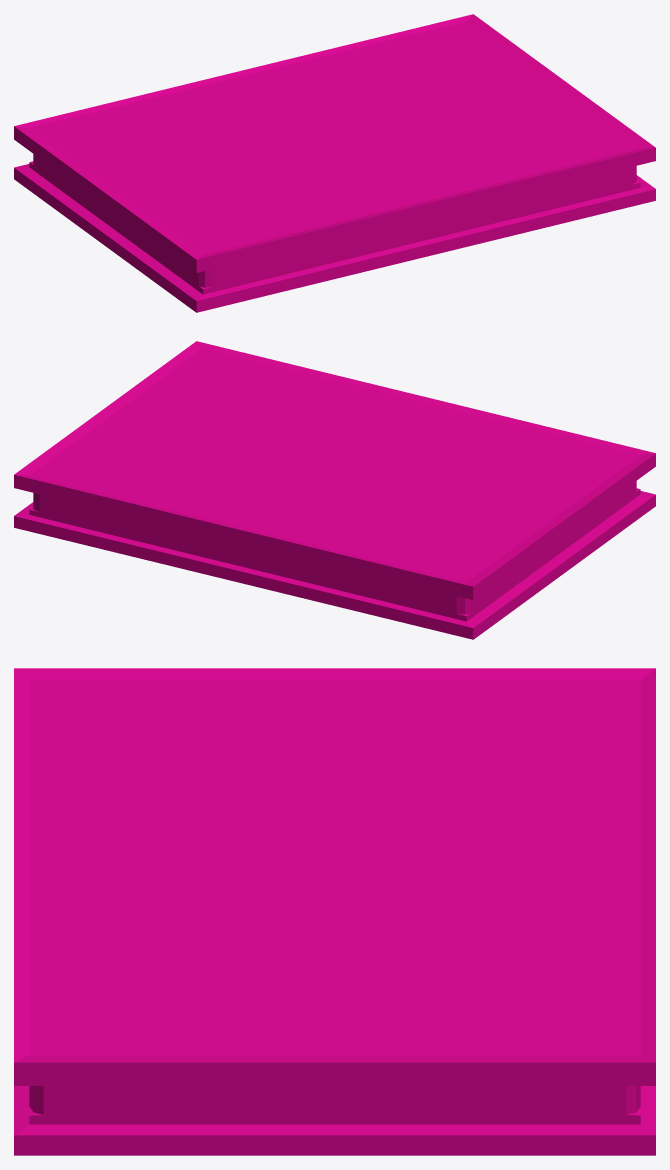
File: LowerThrone.fbx
The picture shows the model from 3 angles, top to bottom: view 1: azimuth 30°, elevation 25°; view 2: azimuth 150°, elevation 25°; view 3: azimuth 270°, elevation 25°; orthographic projection. The views are drawn at different scales.
Parts seen in each view (by area): view 1: LowerThrone; view 2: LowerThrone; view 3: LowerThrone.
Part boxes in pixels (x1,y1,x2,y2): LowerThrone: [14, 14, 655, 312]; LowerThrone: [14, 341, 655, 639]; LowerThrone: [14, 668, 655, 1155].
Size of the model in its own units: 719 by 79.25 by 494.
